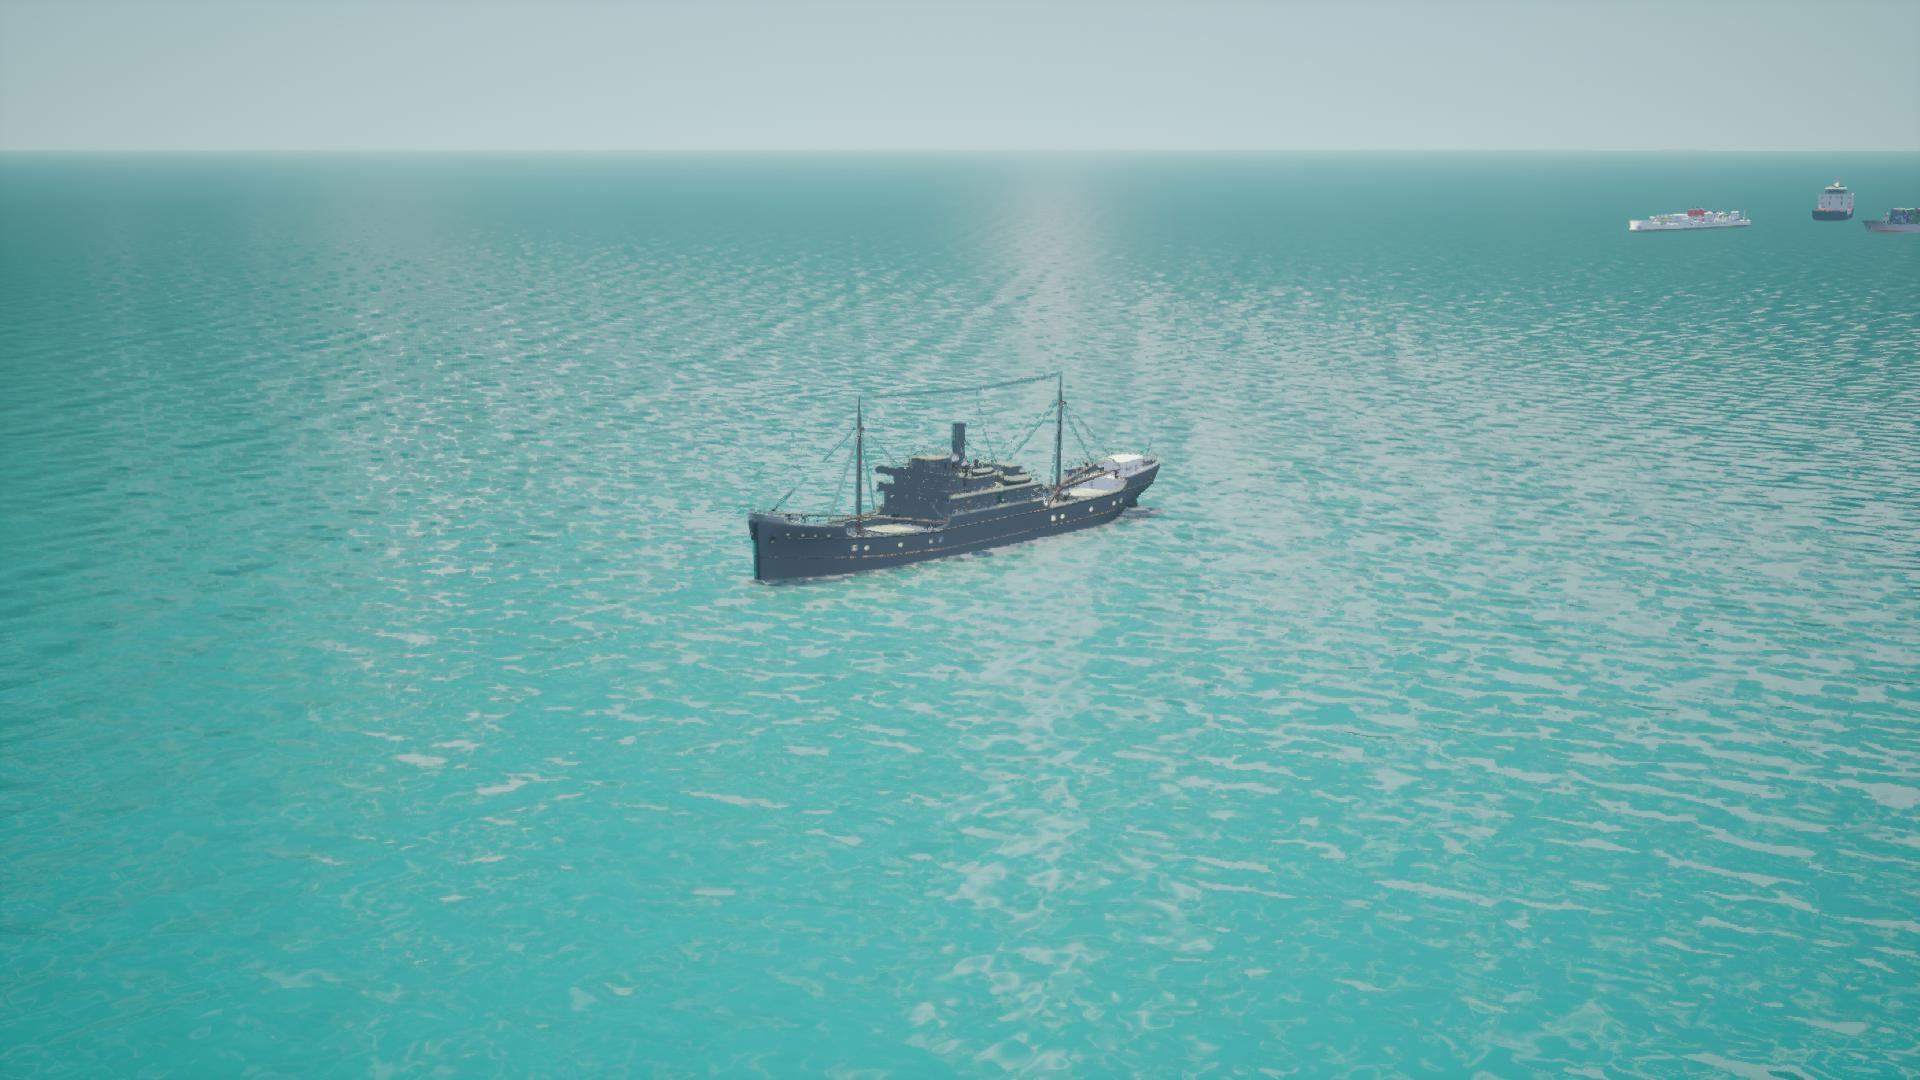Fishing Boat: (744, 423, 1160, 583), (1625, 208, 1755, 233), (1817, 182, 1858, 222), (1866, 208, 1920, 237)
